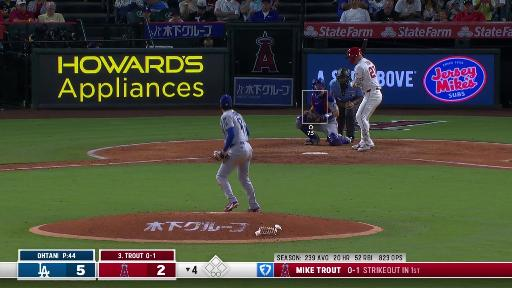pitcher: (214, 91, 261, 214)
